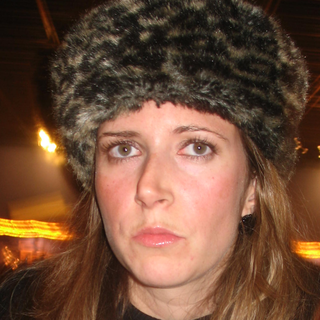eye: (173, 135, 224, 164), (98, 138, 148, 162)
